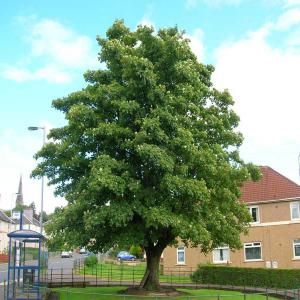Tree: (30, 12, 260, 284)
